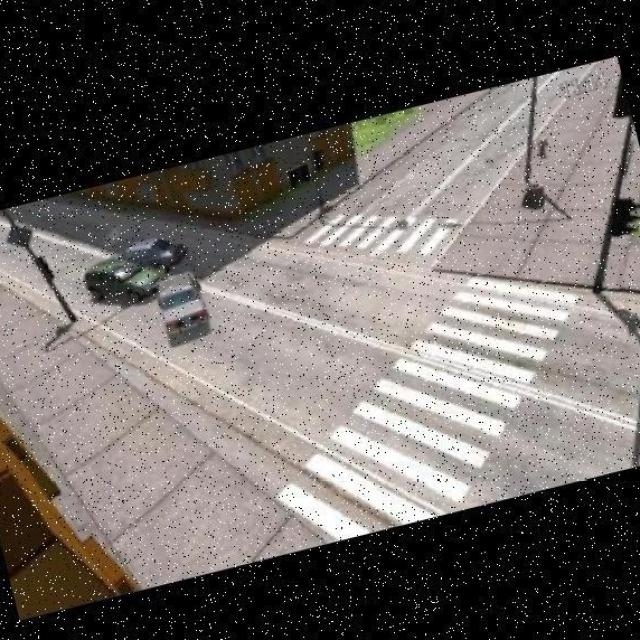accident: (114, 228, 186, 288)
